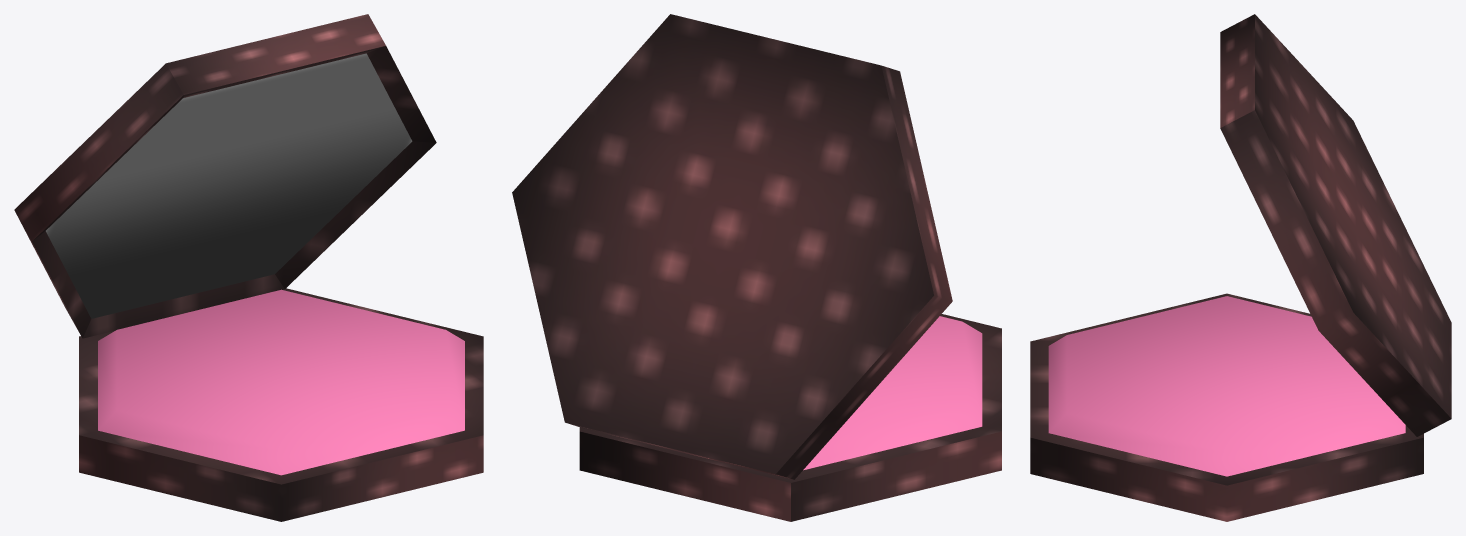
The model's file is Compact_A.FBX.
3 renders of one model, left to right at view 1: azimuth 30°, elevation 25°; view 2: azimuth 150°, elevation 25°; view 3: azimuth 270°, elevation 25°, orthographic. The views are drawn at different scales.
Visible parts, largest first — view 1: Compact; view 2: Compact; view 3: Compact.
Part boxes in pixels (x1,y1,x2,y2): Compact: (14,14,483,521); Compact: (512,14,1001,521); Compact: (1030,14,1451,521).
Bounding box in the file's own units: 24.76 × 21.87 × 22.96.
